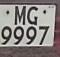7: (37, 23, 52, 48)
9: (11, 24, 27, 47), (26, 25, 39, 47), (1, 24, 13, 47)
G: (27, 6, 40, 26)
M: (12, 6, 28, 26)
